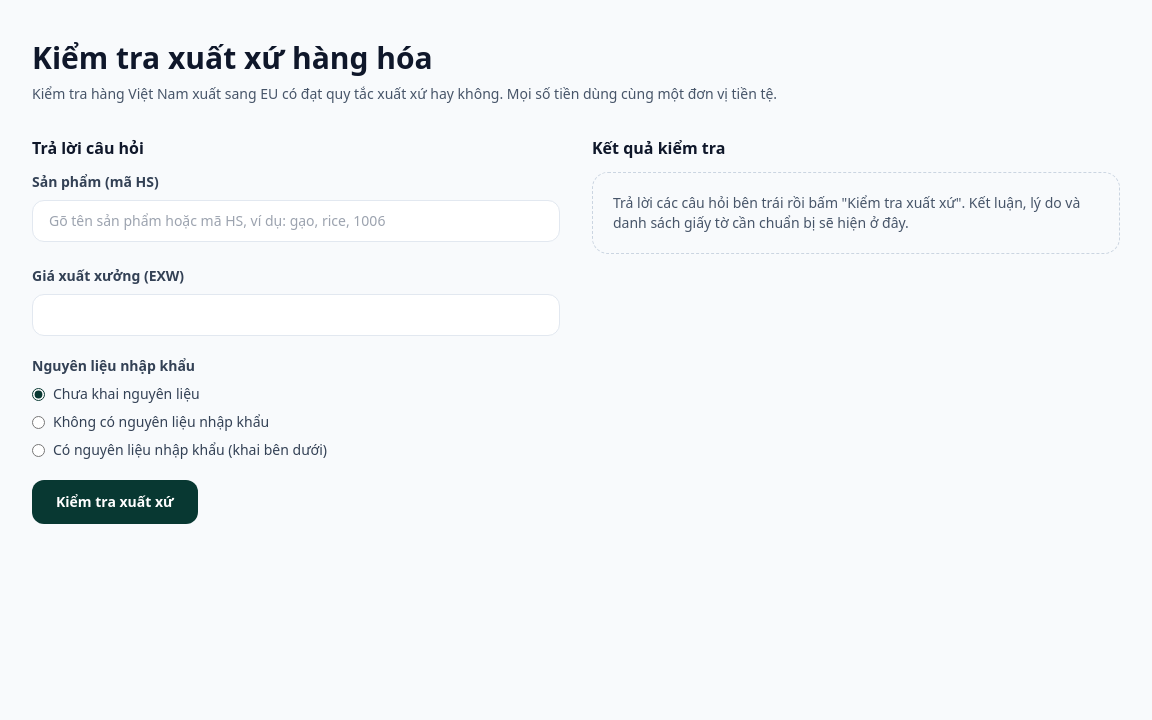
Test: Máy tính quy tắc xuất xứ (C4) › không chọn mã HS thì báo lỗi và không gọi server
The image size is (1152, 720).
Click the button "Kiểm tra xuất xứ" at (115, 502), box x1=32 y1=480 x2=198 y2=524
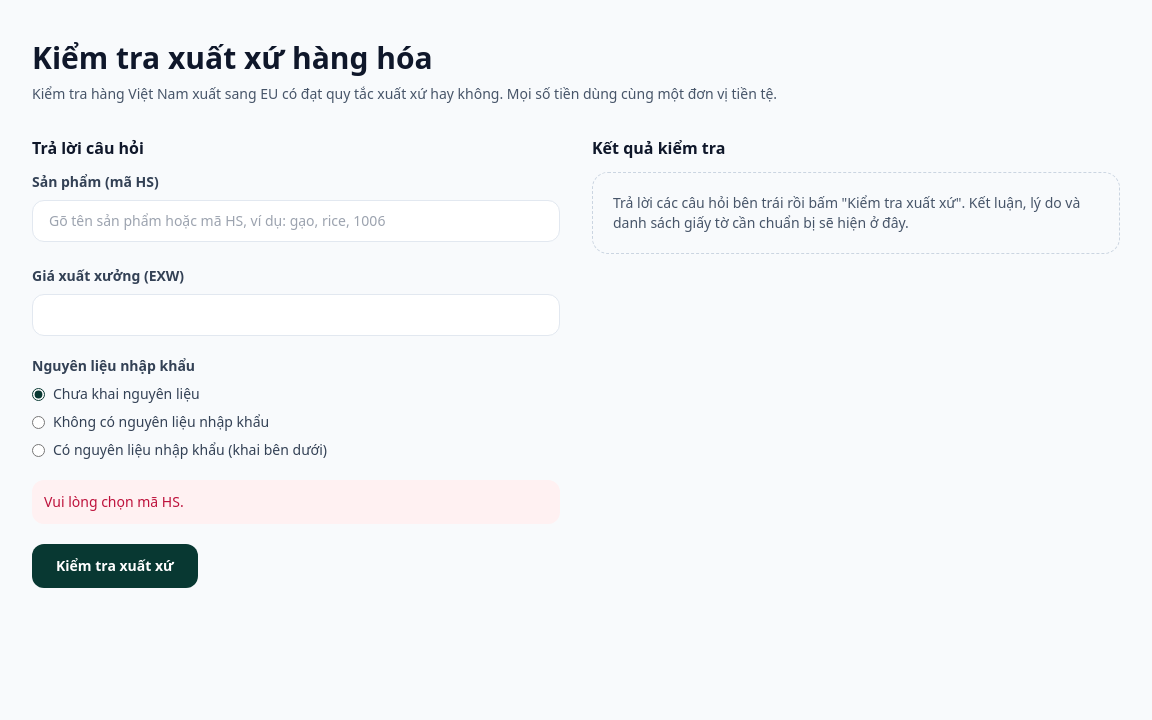
Result: the message shows "Vui lòng chọn mã HS" at x1=44 y1=492 x2=184 y2=511
